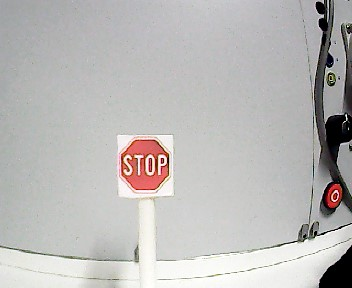stop-bord: (118, 136, 173, 193)
